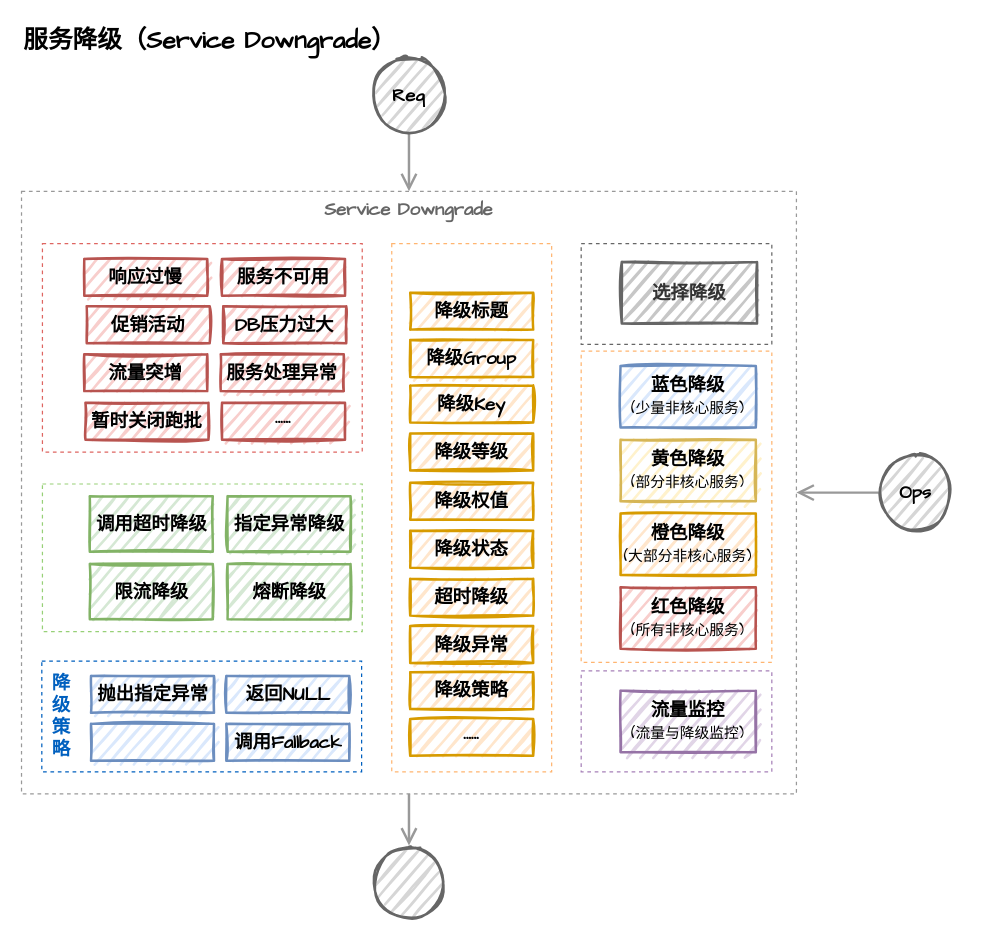
Some shapes in this 989 by 941 pixel diagram are drawn without their labels. Each missing label, with the box of its shape:
Call: (370, 844, 446, 920)
个 性 降 级: (580, 242, 772, 344)
手 动 分 级 降 级: (580, 350, 772, 662)
手 动 降 级: (41, 242, 362, 452)
监 控 平 台: (580, 670, 772, 772)
自 动 降 级: (41, 483, 362, 632)
返回最后数据: (89, 722, 215, 761)
降级参数: (391, 242, 552, 772)
